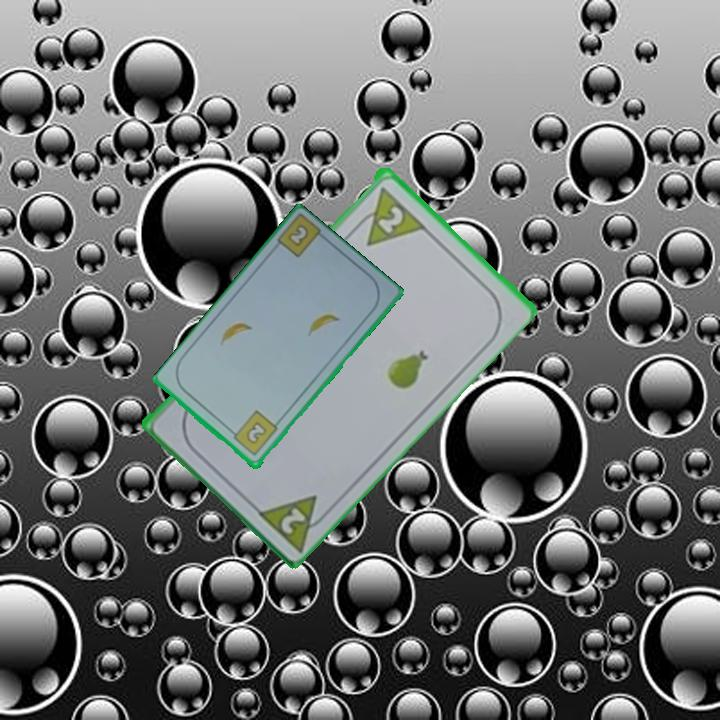2b: (226, 407, 281, 459), (273, 212, 330, 261)
2p: (251, 490, 335, 553), (373, 202, 407, 236)
